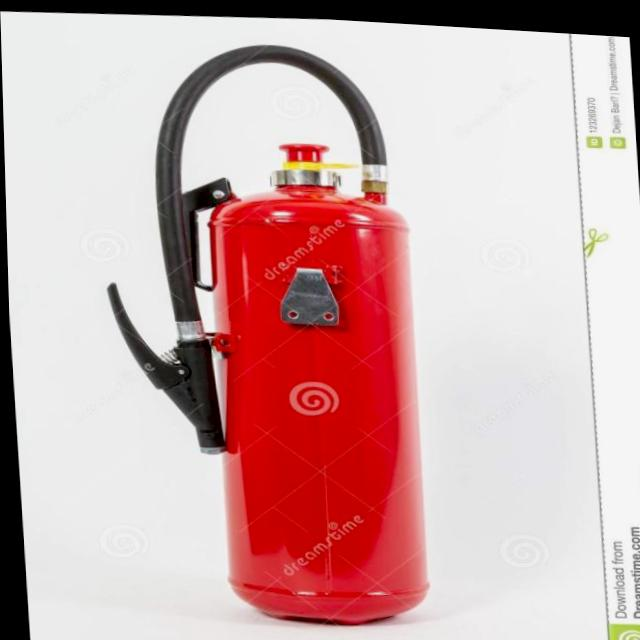FireExtinguisher: (80, 22, 436, 640)
